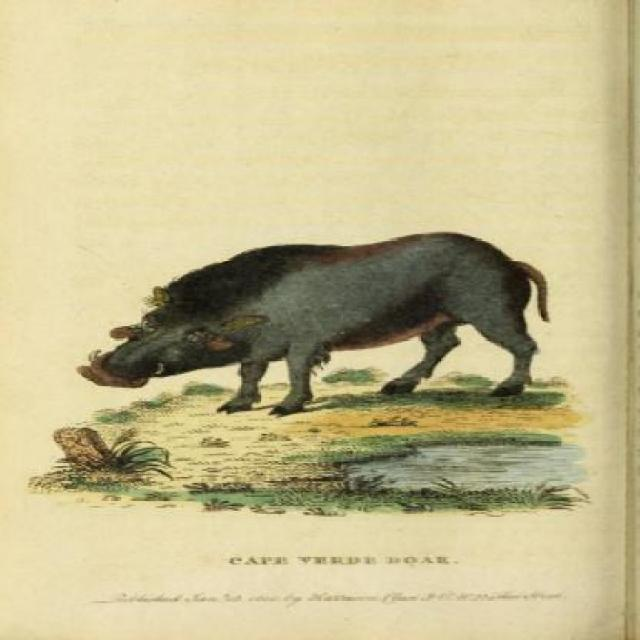pig: (77, 230, 551, 414)
